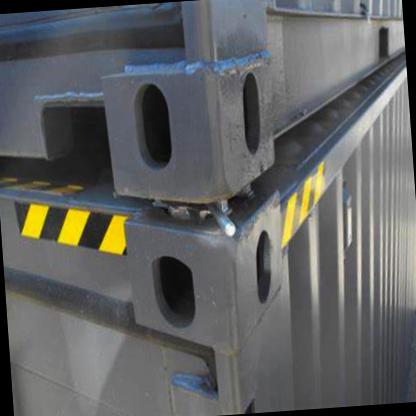CornerCasting: (96, 53, 286, 208), (115, 182, 296, 340)
